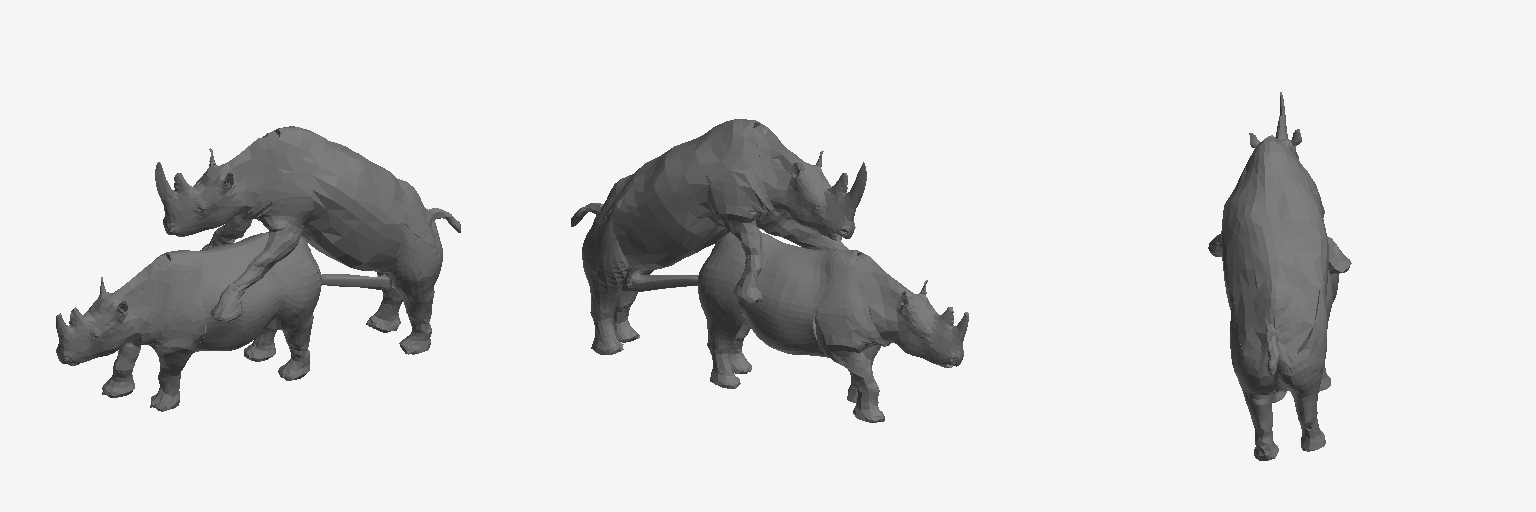
Rendered from Rhinoceros.obj.
The picture shows the model from 3 angles: view 1: azimuth 30°, elevation 25°; view 2: azimuth 150°, elevation 25°; view 3: azimuth 270°, elevation 25°; orthographic projection.
Parts seen in each view (by area): view 1: Rhino; view 2: Rhino; view 3: Rhino.
Boxes of the visible parts, x1,y1,x2,y2 form: Rhino: [56, 126, 460, 411]; Rhino: [571, 119, 968, 422]; Rhino: [1208, 92, 1351, 460].
Size of the model in its own units: 160 by 96.09 by 49.57.